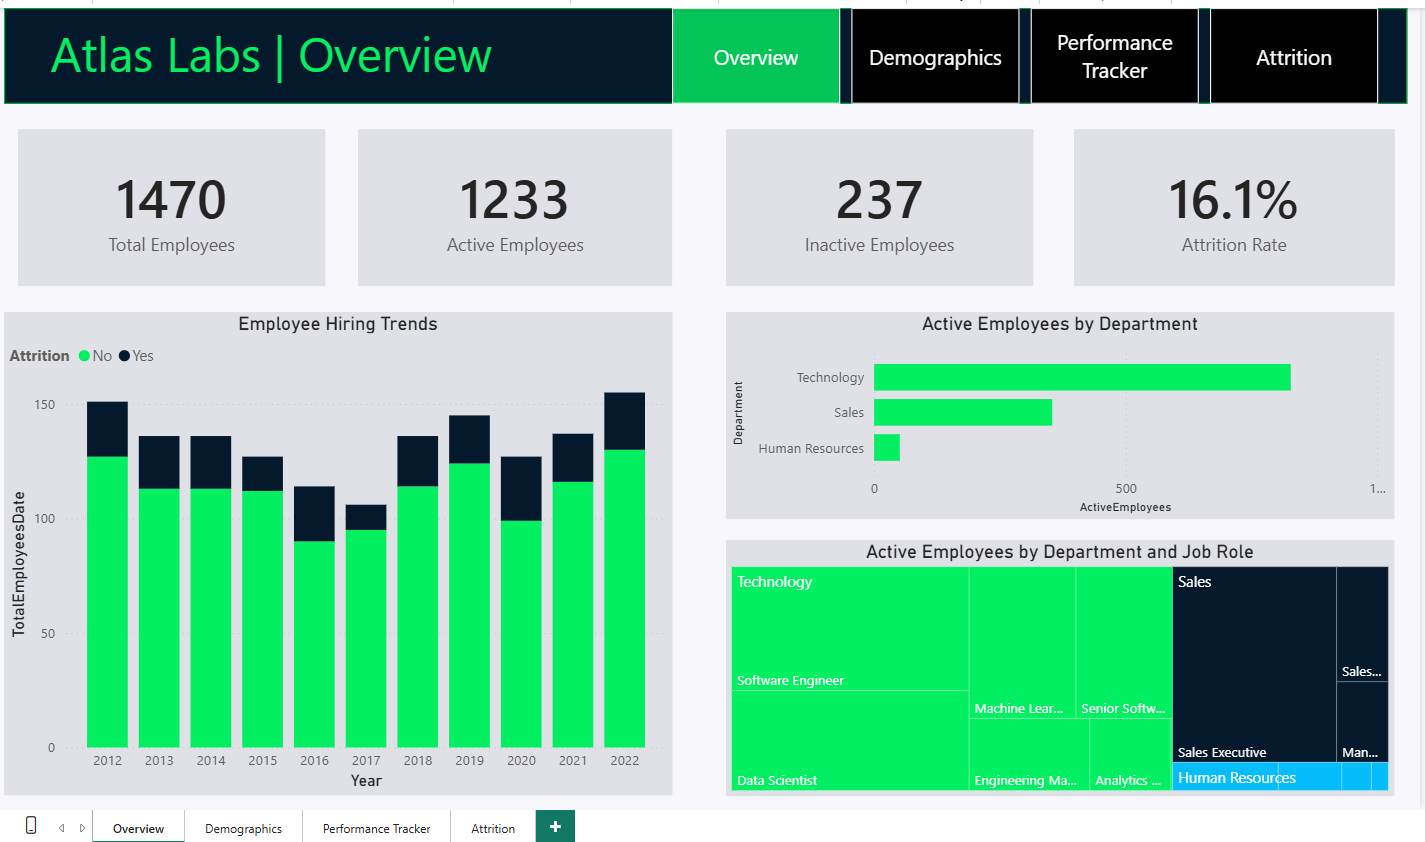

The dashboard page shown, as its layout file describes it:
{"tool":"powerbi","page":{"name":"Overview","canvas":[1280,720],"ordinal":0},"visuals":[{"type":"card","fields":{"Values":["_Measures.TotalEmployees"]},"box":[21.5,108.9,275.6,141.2],"z":0},{"type":"card","fields":{"Values":["_Measures.InactiveEmployees"]},"box":[657.5,108.9,275.6,141.2],"z":1000},{"type":"card","fields":{"Values":["_Measures.AttritionRate"]},"box":[969.4,108.9,287.7,141.2],"z":2000},{"type":"columnChart","title":"Employee Hiring Trends","fields":{"Y":["_Measures.TotalEmployeesDate"],"Category":["DimDate.Date.Variation.Date Hierarchy.Year","DimDate.Date.Variation.Date Hierarchy.Quarter","DimDate.Date.Variation.Date Hierarchy.Month","DimDate.Date.Variation.Date Hierarchy.Day"],"Series":["DimEmployee.Attrition"]},"box":[9.4,272.9,599.7,434.3],"z":3000},{"type":"clusteredBarChart","title":"Active Employees by Department","fields":{"Y":["_Measures.ActiveEmployees"],"Category":["DimEmployee.Department"]},"box":[657.5,272.9,599.7,185.5],"z":4000},{"type":"treemap","title":"Active Employees by Department and Job Role","fields":{"Group":["DimEmployee.Department"],"Values":["_Measures.ActiveEmployees"],"Details":["DimEmployee.JobRole"]},"box":[657.5,477.3,599.7,229.9],"z":5000},{"type":"shape","box":[9.4,0,1259.8,86.1],"z":6000},{"type":"textbox","box":[45.7,6.7,422.2,71.3],"z":7000},{"type":"card","fields":{"Values":["_Measures.ActiveEmployees"]},"box":[326.7,108.9,282.4,141.2],"z":8000},{"type":"pageNavigator","box":[609.1,0,634.6,86.1],"z":9000}]}

Visuals, with their boxes on the page's 1280x720 design canvas (x1, y1, x2, y2). These are canvas units, not pixel positions in the 1425x842 screenshot, which may show the page scaled, cropped or inside an application window:
card - _Measures.TotalEmployees: crop(22, 109, 297, 250)
card - _Measures.InactiveEmployees: crop(658, 109, 933, 250)
card - _Measures.AttritionRate: crop(969, 109, 1257, 250)
"Employee Hiring Trends" columnChart: crop(9, 273, 609, 707)
"Active Employees by Department" clusteredBarChart: crop(658, 273, 1257, 458)
"Active Employees by Department and Job Role" treemap: crop(658, 477, 1257, 707)
shape: crop(9, 0, 1269, 86)
textbox: crop(46, 7, 468, 78)
card - _Measures.ActiveEmployees: crop(327, 109, 609, 250)
pageNavigator: crop(609, 0, 1244, 86)
